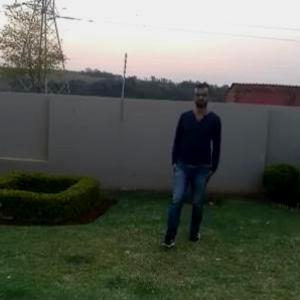follow: (169, 82, 224, 248)
